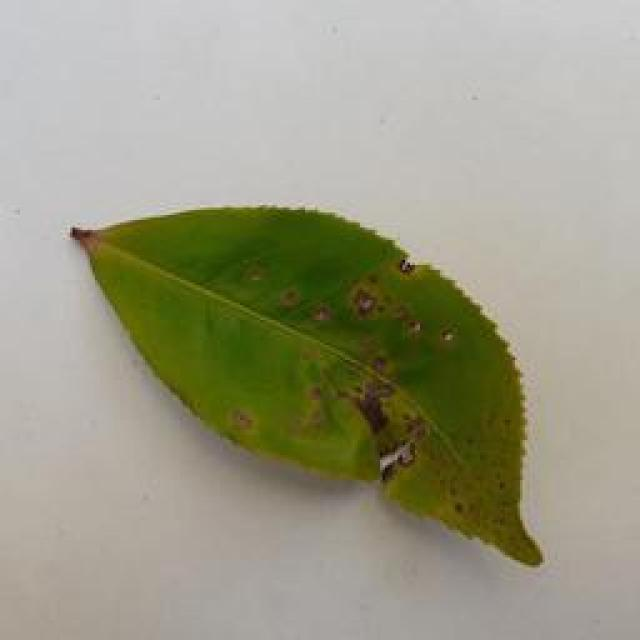Helopeltis: (72, 206, 546, 572)
